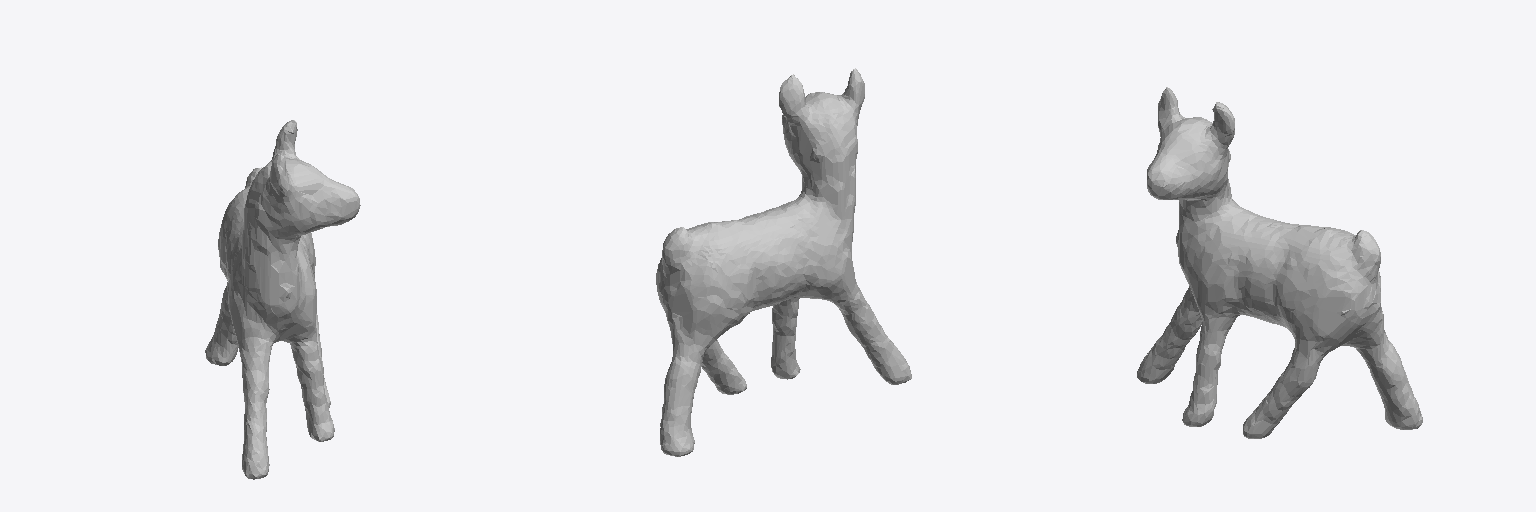
The model's file is goat.obj.
3 views of the same model, side by side, from view 1: azimuth 30°, elevation 25°; view 2: azimuth 150°, elevation 25°; view 3: azimuth 270°, elevation 25° (orthographic).
Visible parts, largest first — view 1: goat; view 2: goat; view 3: goat.
Part boxes in pixels (x1,y1,x2,y2): goat: (205,120,360,479); goat: (656,68,911,456); goat: (1137,87,1422,438).
Size of the model in its own units: 47.53 by 92.67 by 76.65.